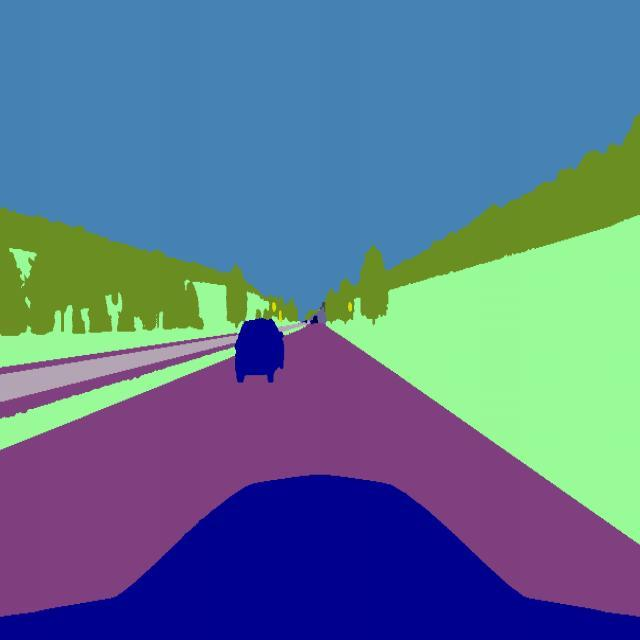safe: (230, 312, 288, 386)
